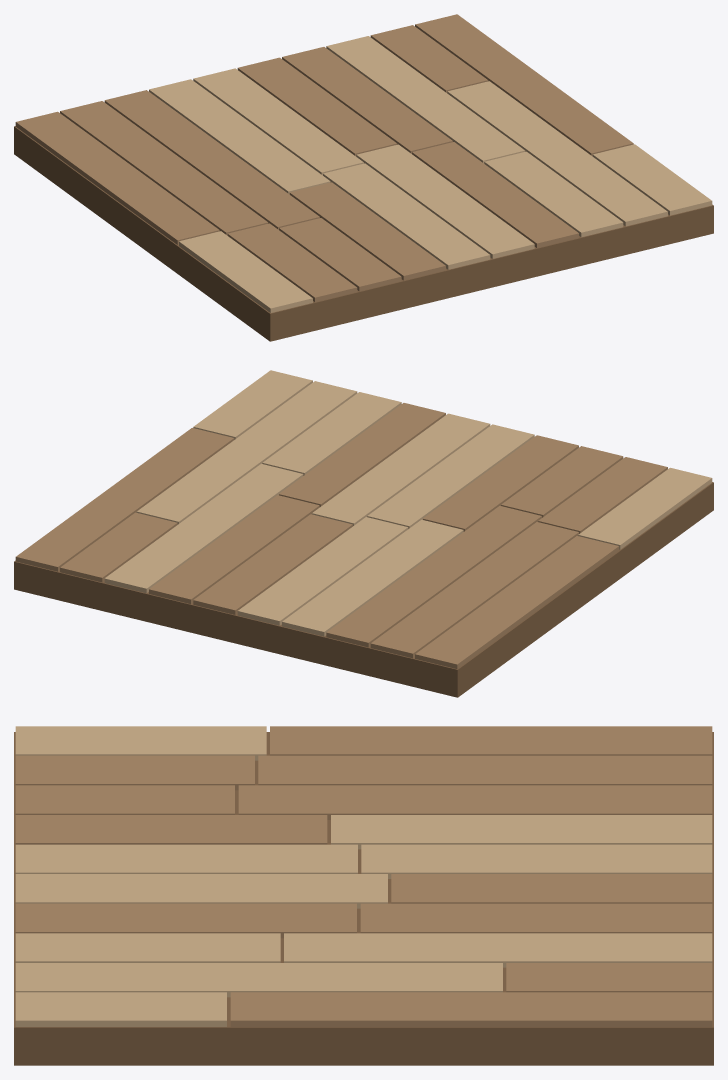
The model's file is SM_Floor_Wood.glb.
3 renders of one model, top to bottom at view 1: azimuth 30°, elevation 25°; view 2: azimuth 150°, elevation 25°; view 3: azimuth 270°, elevation 25°, orthographic. The views are drawn at different scales.
Visible parts, largest first — view 1: SM_Floor_Wood; view 2: SM_Floor_Wood; view 3: SM_Floor_Wood.
Part boxes in pixels (x1,y1,x2,y2): SM_Floor_Wood: [14, 14, 713, 341]; SM_Floor_Wood: [14, 370, 713, 697]; SM_Floor_Wood: [14, 726, 713, 1065].
Size of the model in its own units: 2 by 0.14 by 2.
